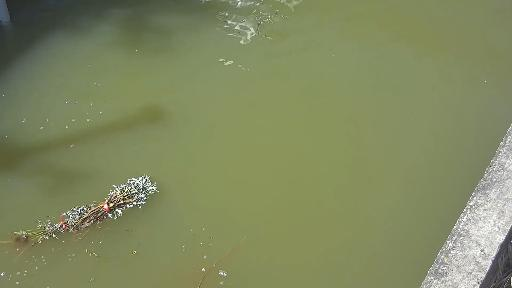twig: (13, 175, 165, 236)
